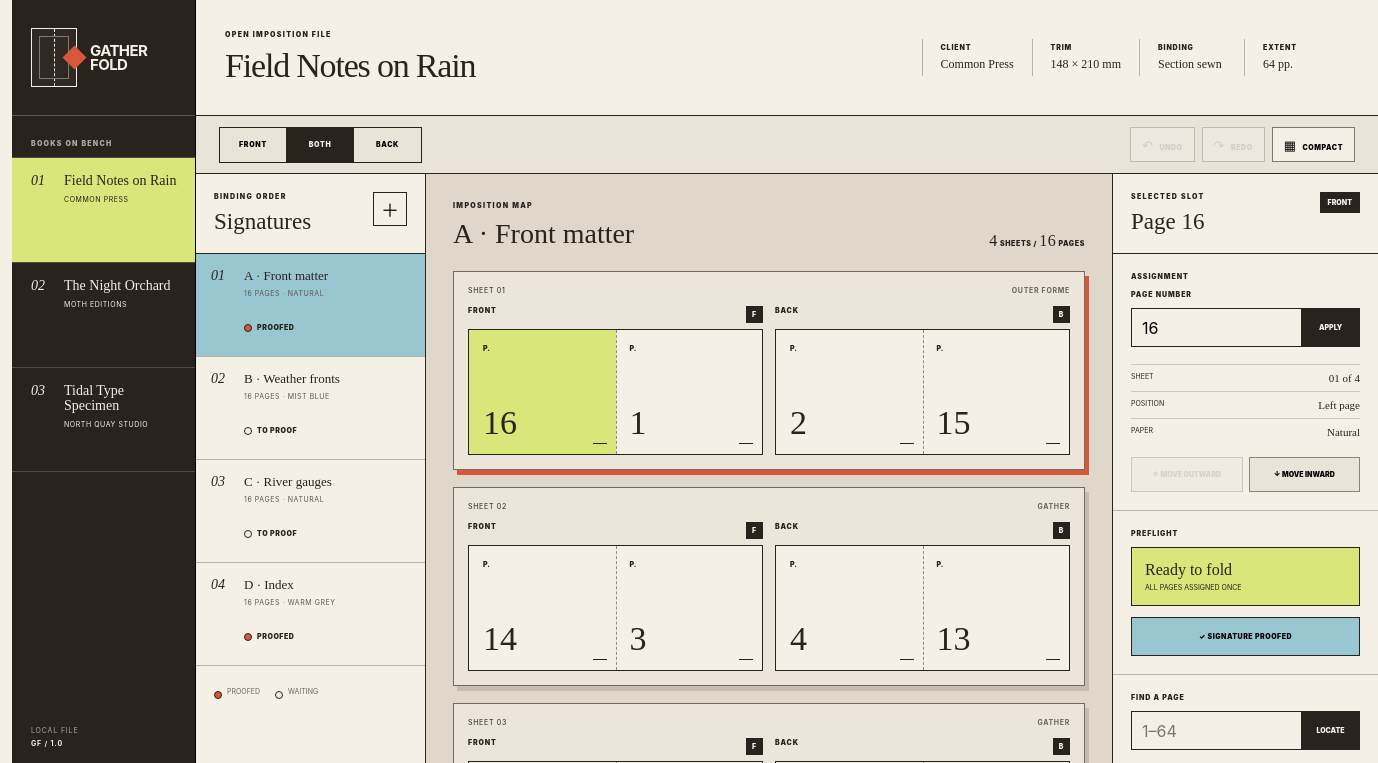
Test: Gatherfold workbench › restores the last selected slot independently for each book
Click the button named "Page 3, front side" at (689, 608), box [616, 546, 762, 670]
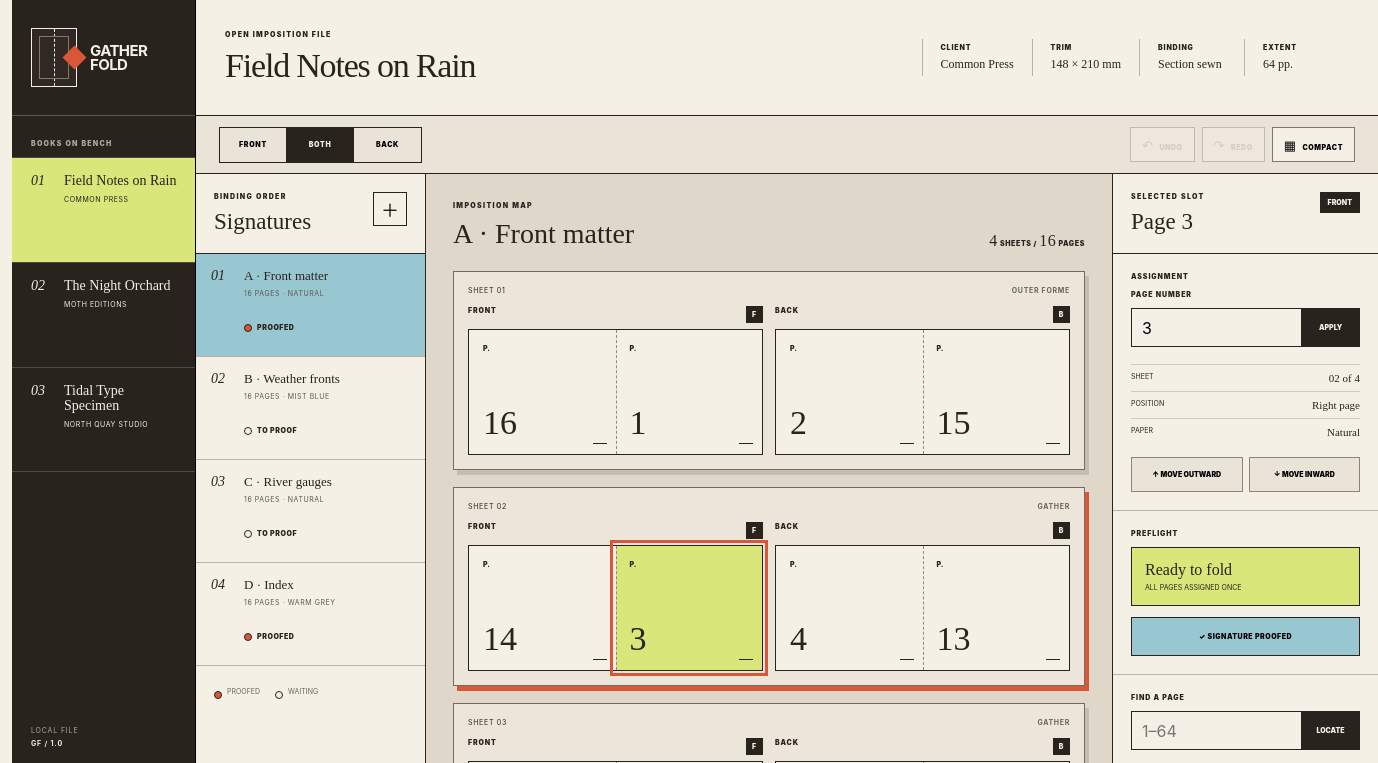
Click the button "02 The Night Orchard Moth Editions" at (104, 314), box [12, 262, 195, 367]
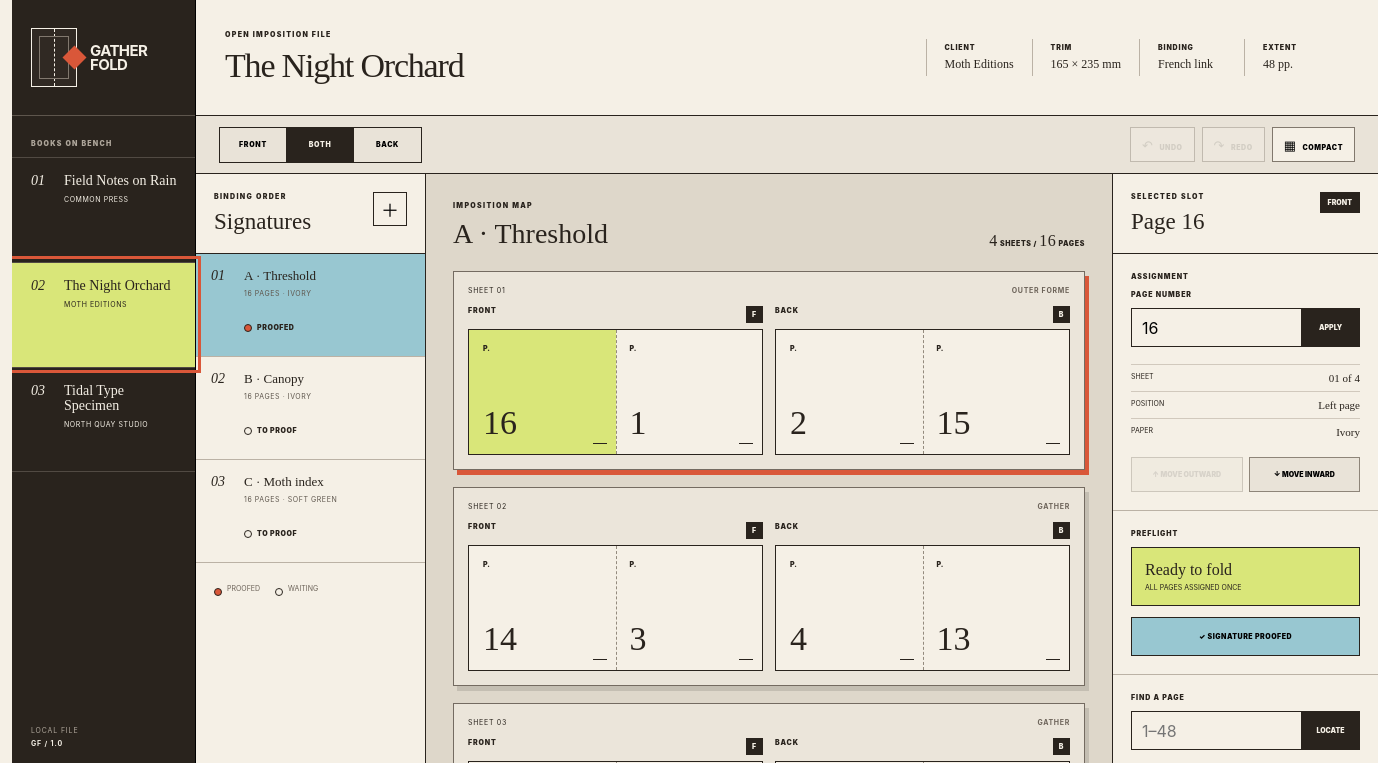
Click the button "01 Field Notes on Rain Common Press" at (104, 210), box [12, 157, 195, 262]
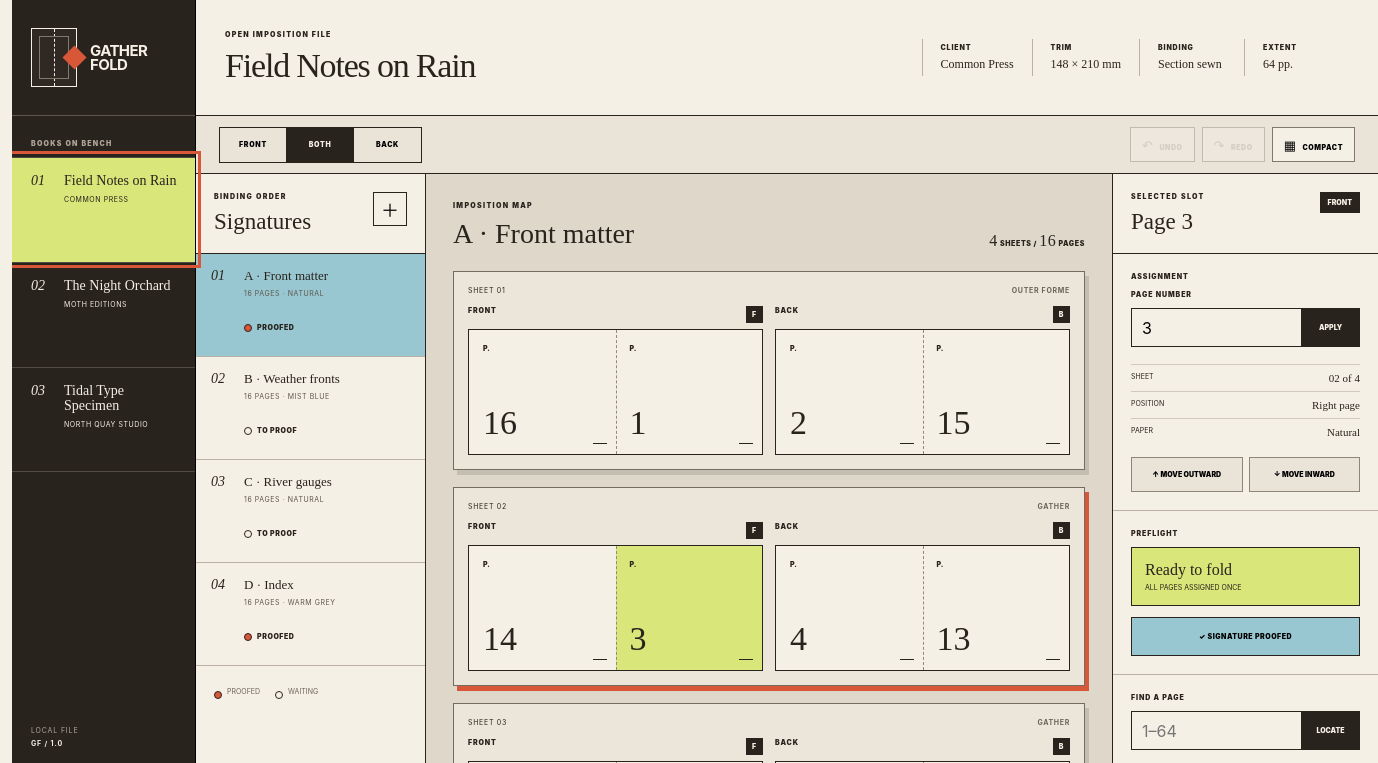
expect the heading "Page 3" is shown: met, box [1131, 209, 1193, 234]
